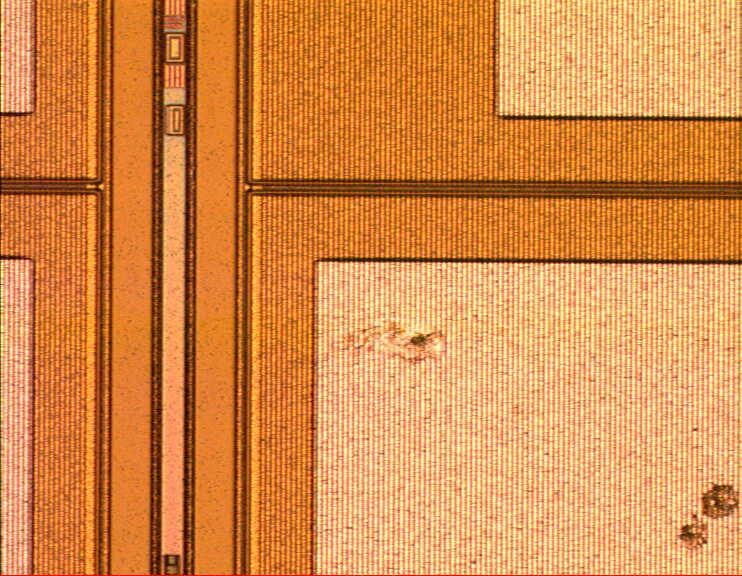SCRATCH: (266, 311, 742, 568)
